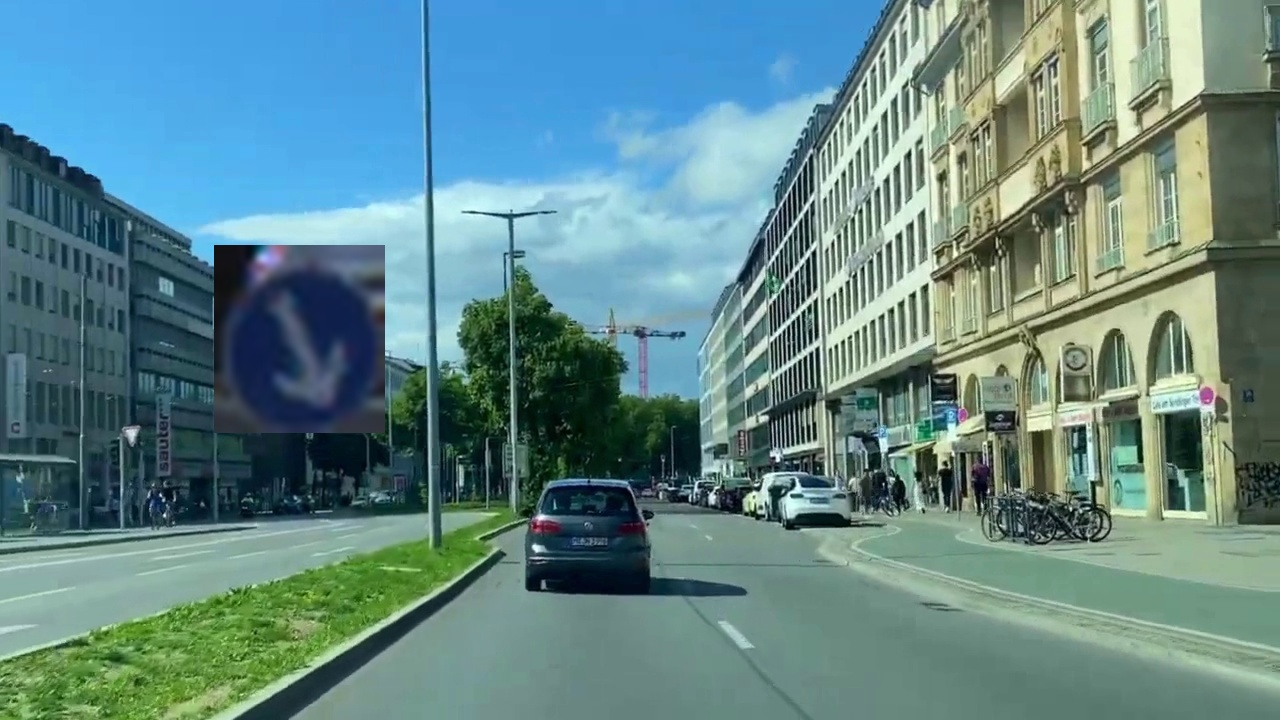Keep right: (214, 245, 385, 433)
